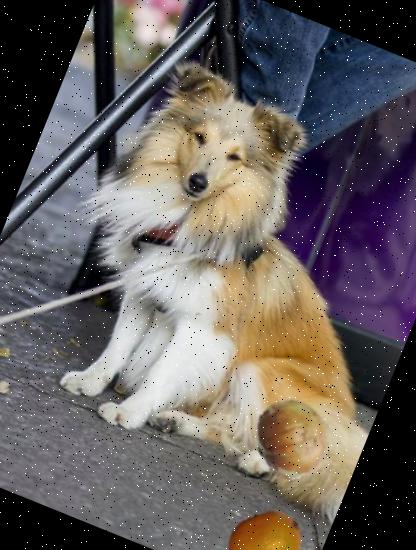Lemon: (214, 493, 316, 550)
Onion: (240, 384, 348, 492)
